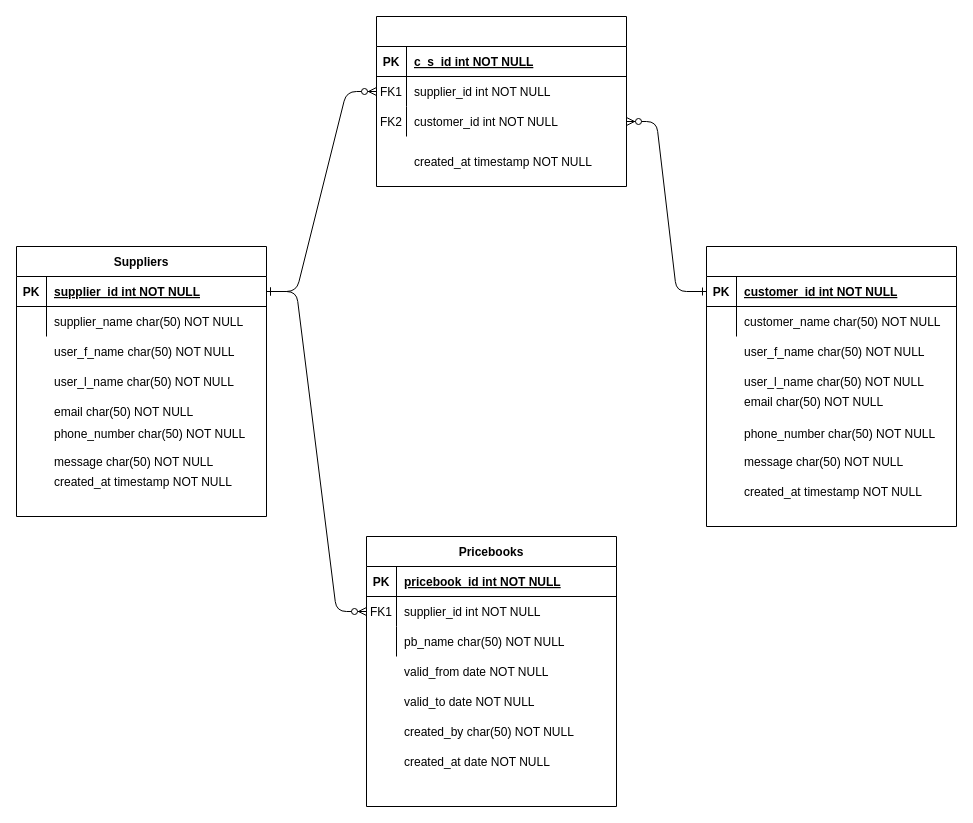
Image size: 973x823. Some labels were removed from this diagram. Here are the shapes that lost their labels. From the top down, the box of each, then its label:
(376, 16, 626, 186): Suppliers_Customers
(706, 246, 956, 526): Customers
